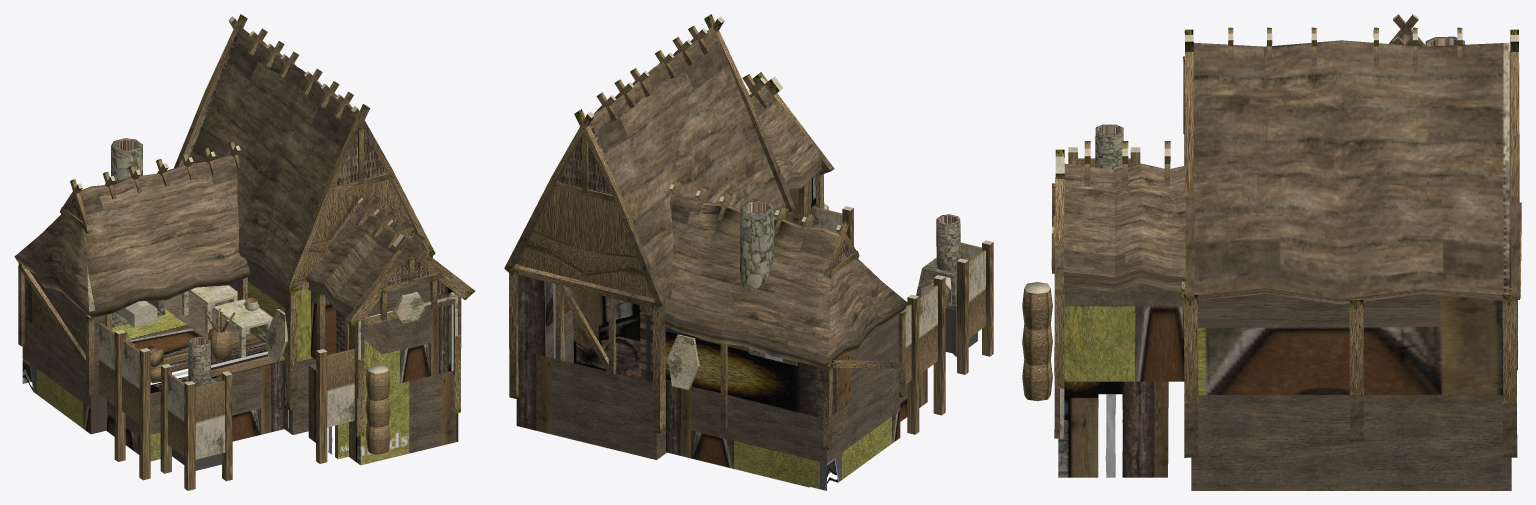
File: forge.dae
3 renders of one model, left to right at view 1: azimuth 30°, elevation 25°; view 2: azimuth 150°, elevation 25°; view 3: azimuth 270°, elevation 25°, orthographic. The views are drawn at different scales.
Parts seen in each view (by area): view 1: forge; view 2: forge; view 3: forge.
Part boxes in pixels (<box>): forge: <box>14,14,475,490</box>; forge: <box>504,14,993,490</box>; forge: <box>1022,14,1521,490</box>.
Size of the model in its own units: 21.57 by 23.16 by 21.89.
